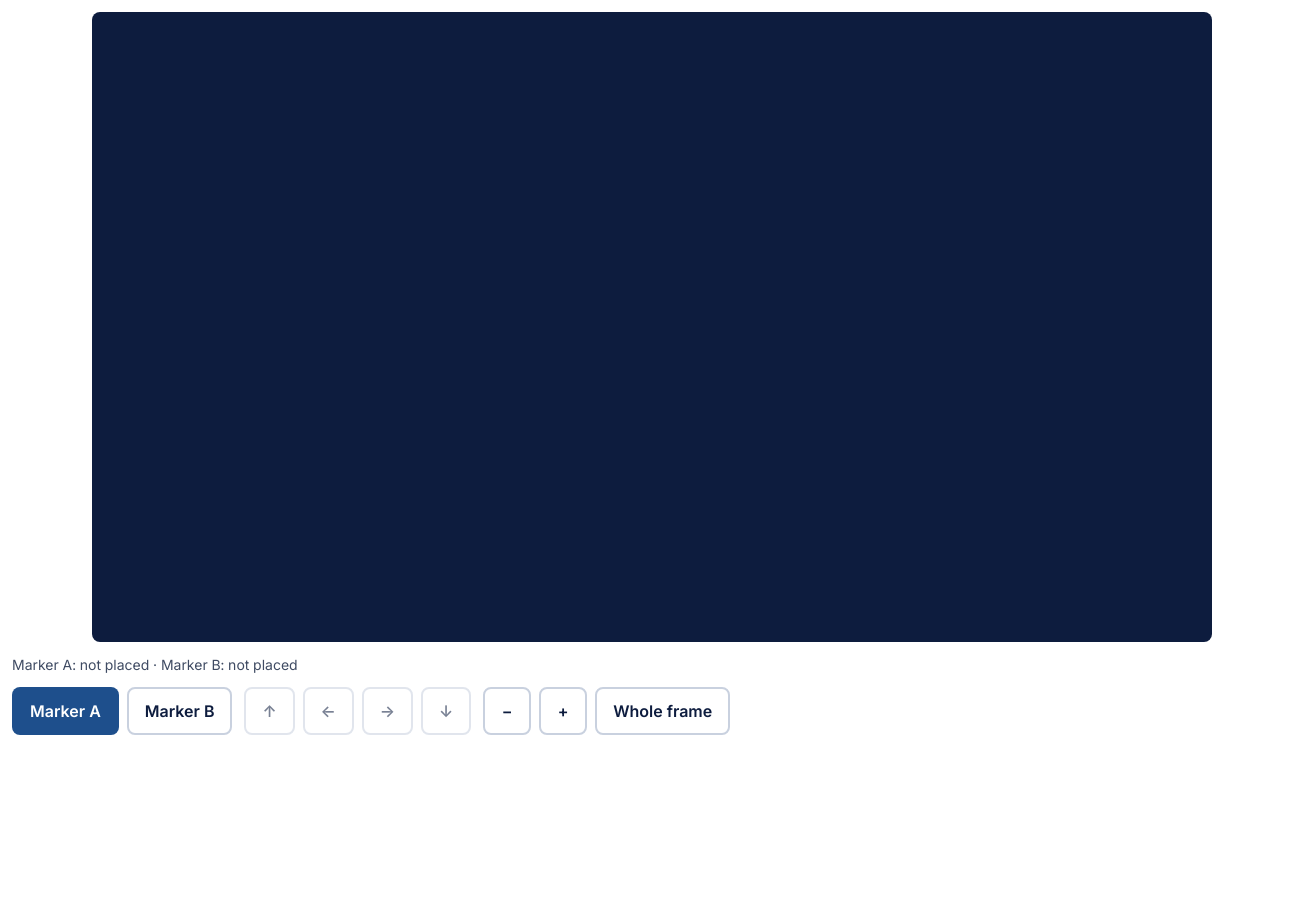
CalibrationOverlay › drags a placed marker instead of placing a new one
Press the mouse on the drawing named "Calibration frame": (652, 327) [92, 12, 1212, 642]
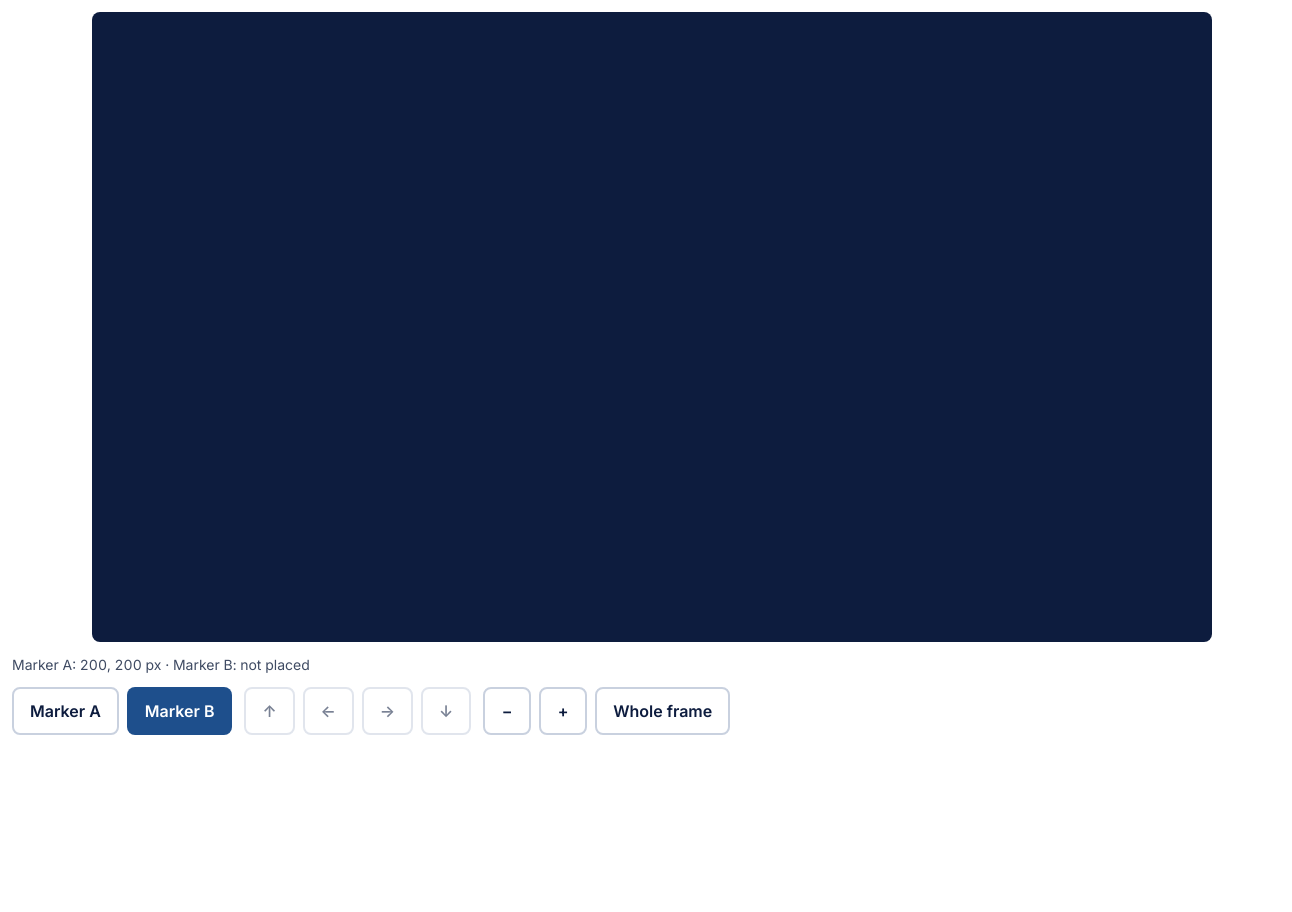
Press the mouse on the drawing named "Calibration frame": (652, 327) [92, 12, 1212, 642]
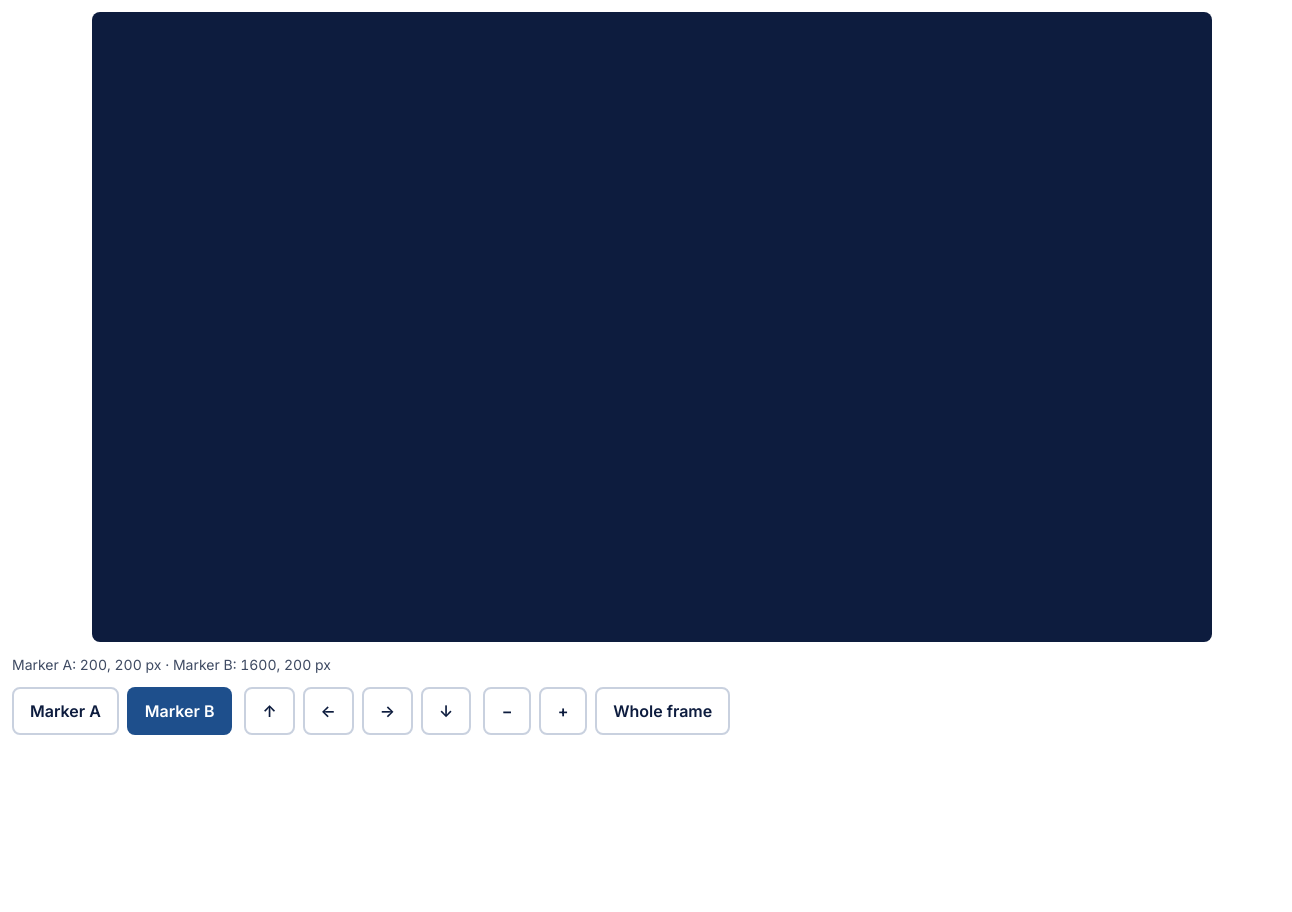
Press the mouse on the drawing named "Calibration frame": (652, 327) [92, 12, 1212, 642]
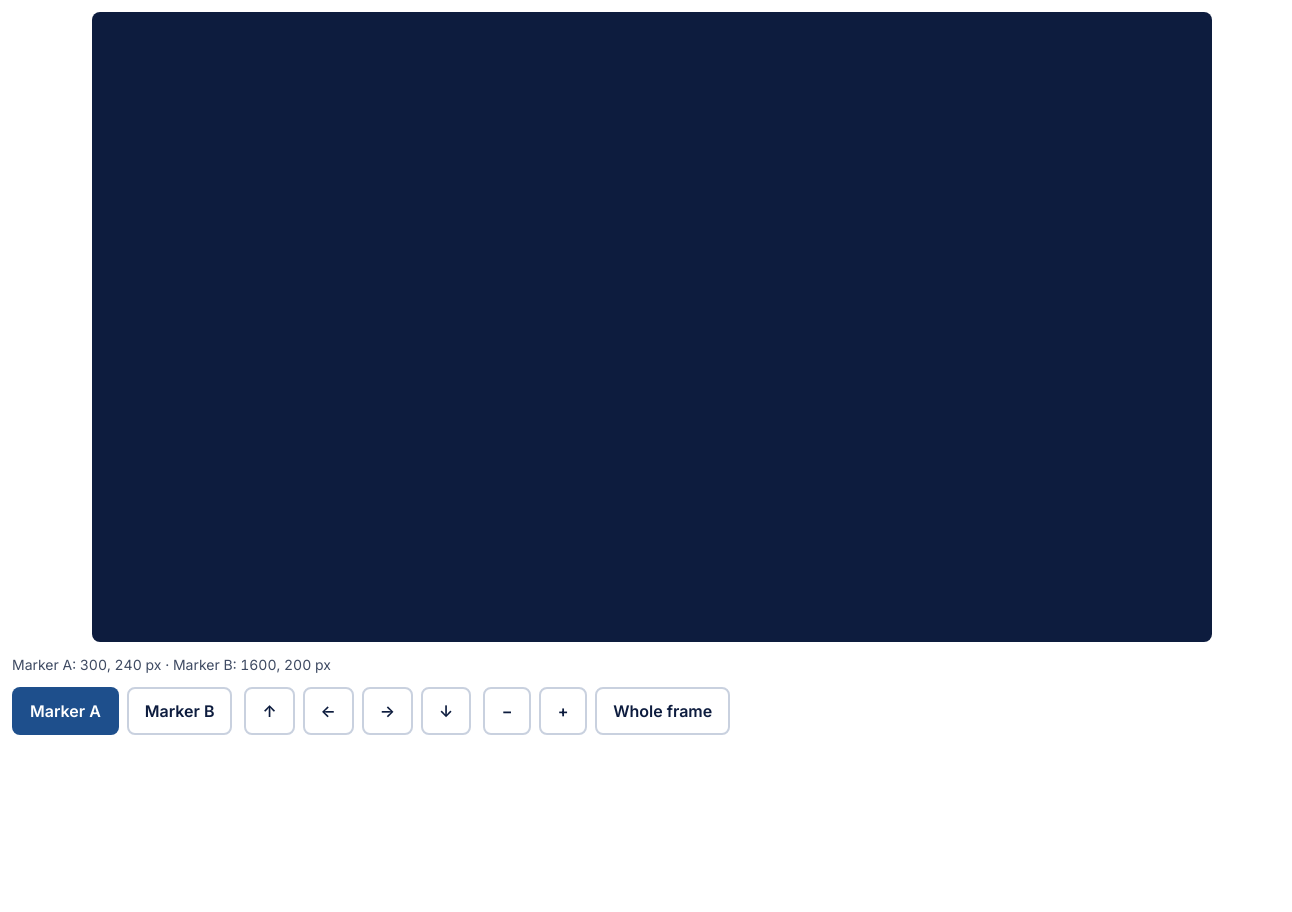
Now the text "Marker A: 300, 240 px · Marker B: 1600, 200 px" is shown, box [12, 656, 331, 673]
